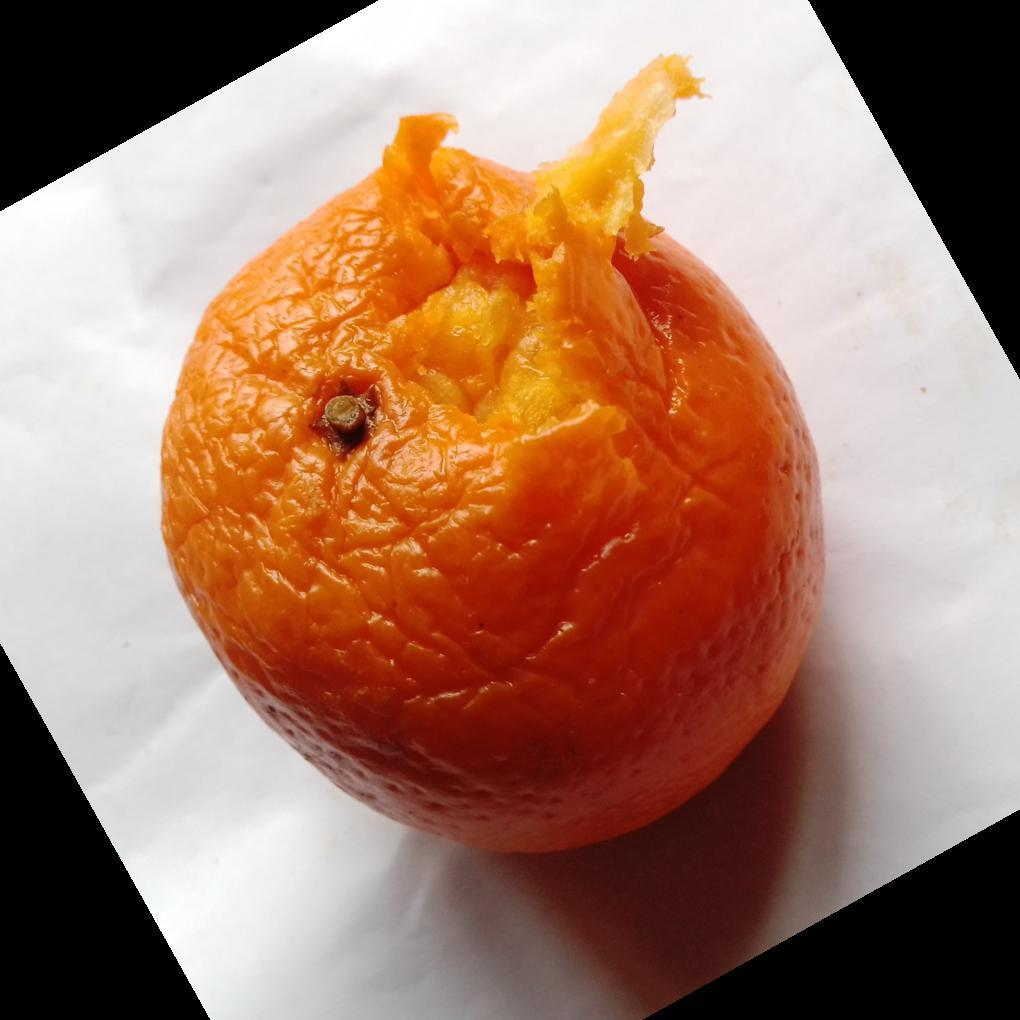FreshOrange: (156, 53, 827, 860)
